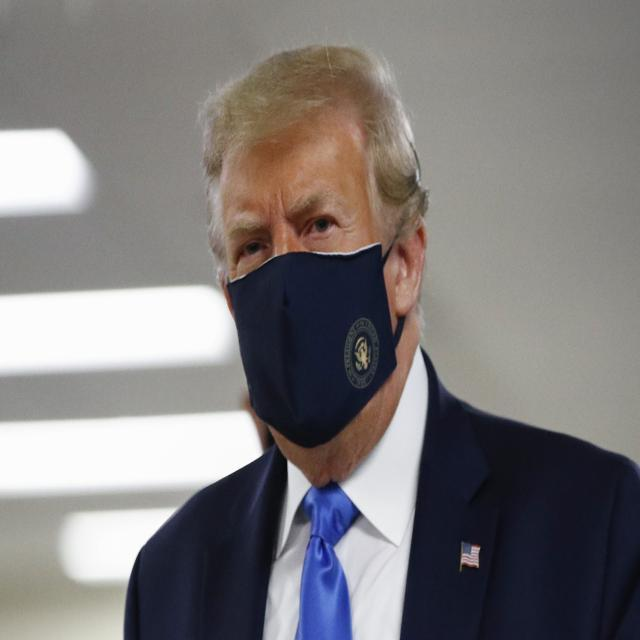Nonhelmet: (192, 39, 436, 449)
